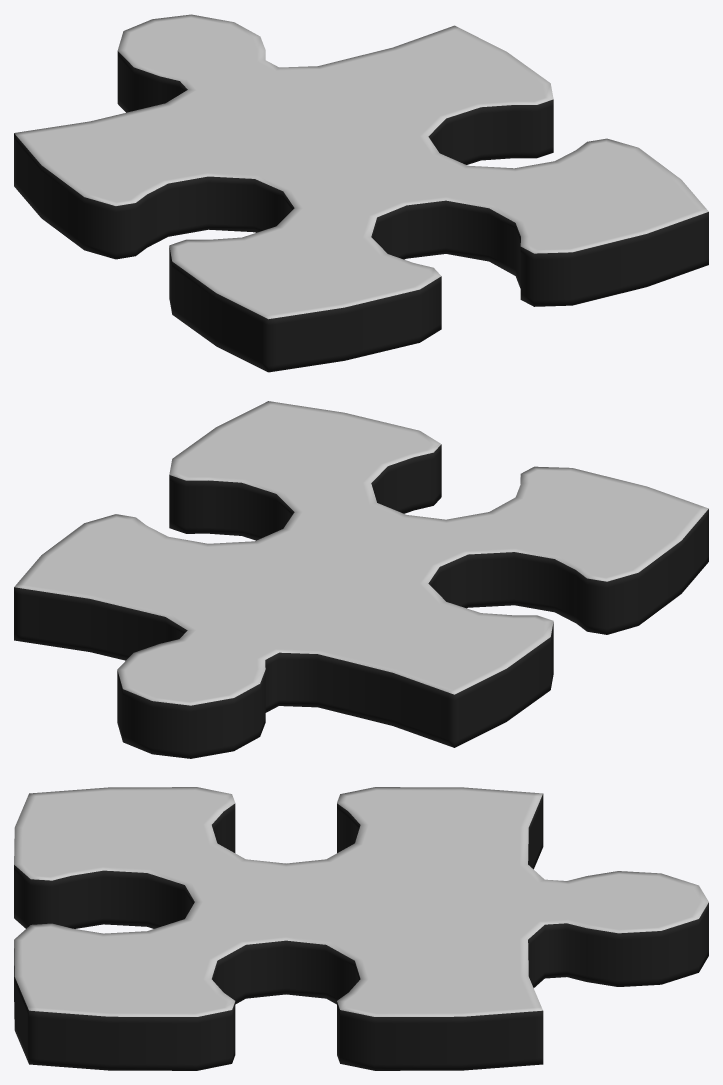
Rendered from puzzle47.fbx.
3 views of the same model, one above another, from view 1: azimuth 30°, elevation 25°; view 2: azimuth 150°, elevation 25°; view 3: azimuth 270°, elevation 25° (orthographic).
Parts seen in each view (by area): view 1: puzzle47; view 2: puzzle47; view 3: puzzle47.
Boxes of the visible parts, x1,y1,x2,y2 form: puzzle47: (14,14,708,372); puzzle47: (14,401,708,758); puzzle47: (14,787,708,1070).
Bounding box in the file's own units: 3.15 × 0.344 × 4.03.
